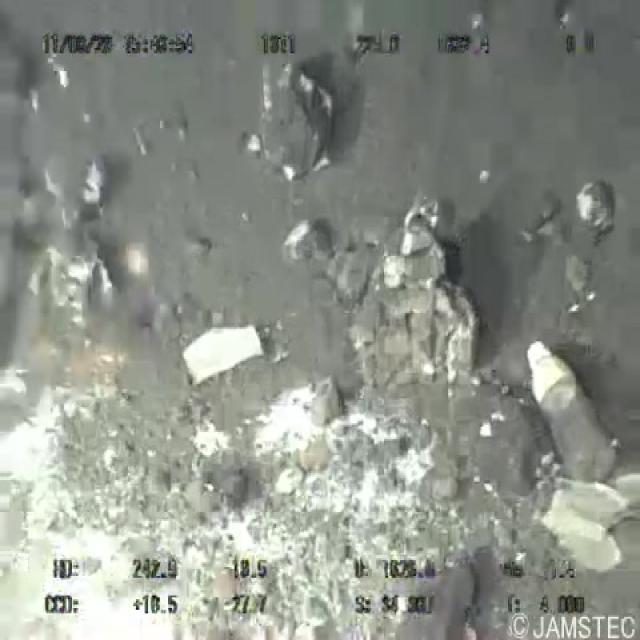plastic: (520, 331, 620, 485)
